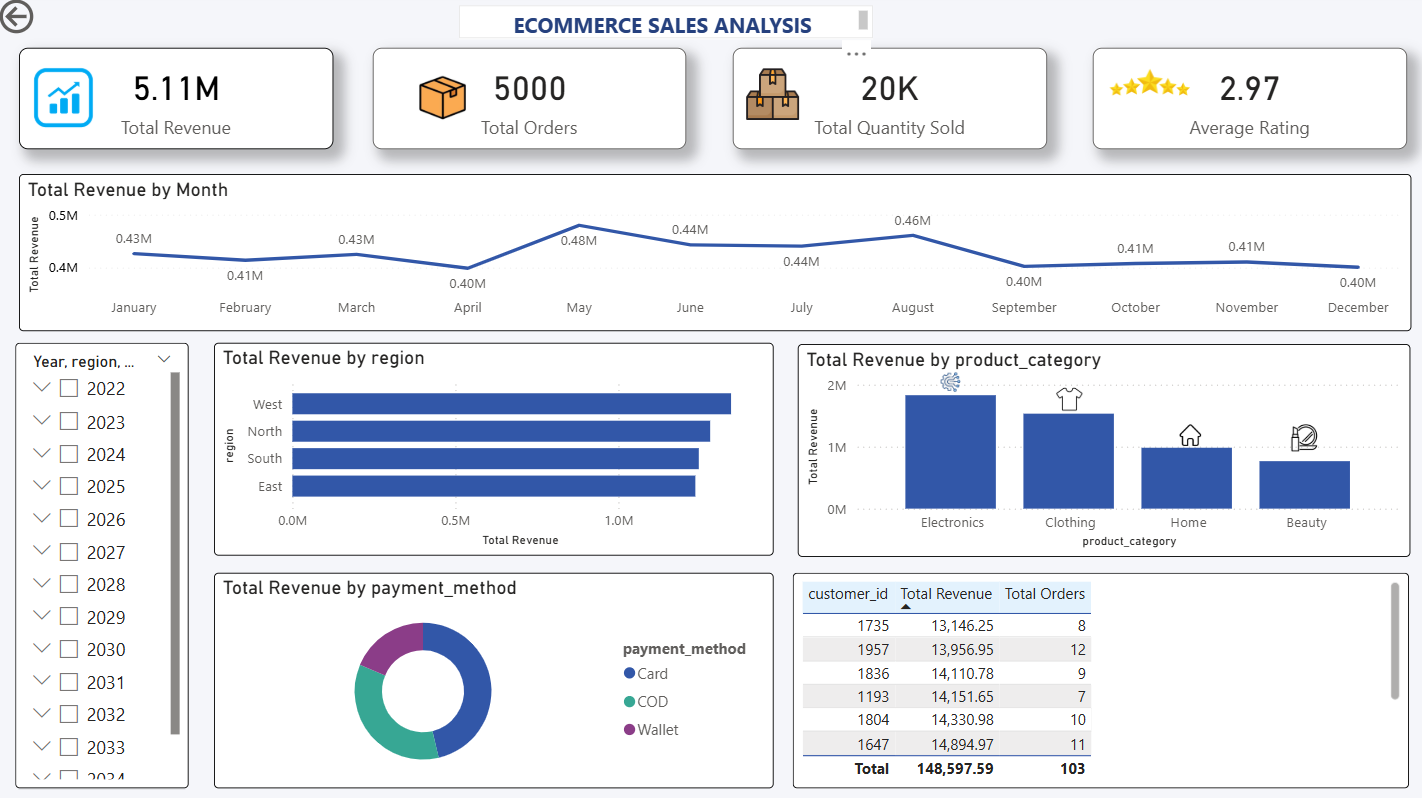

Layout of this report page (visuals, bound fields, positions):
{"tool":"powerbi","page":{"name":"Ecommerce Dashboard","canvas":[1280,720],"ordinal":0},"visuals":[{"type":"card","fields":{"Values":["clean_ecommerce.Total Revenue"]},"box":[21.7,48.3,279.9,90.5],"z":0},{"type":"card","fields":{"Values":["clean_ecommerce.Total Quantity Sold"]},"box":[657.5,48.3,279.9,90.5],"z":1000},{"type":"card","fields":{"Values":["clean_ecommerce.Total Orders"]},"box":[337.8,48.3,279,90.5],"z":2000},{"type":"card","fields":{"Values":["clean_ecommerce.Average Rating"]},"box":[978.4,48.3,279.9,90.5],"z":3000},{"type":"lineChart","fields":{"Category":["clean_ecommerce.order_date.Variation.Date Hierarchy.Month"],"Y":["clean_ecommerce.Total Revenue"]},"box":[21.7,160.5,1240.2,139.9],"z":4000},{"type":"columnChart","fields":{"Category":["clean_ecommerce.product_category"],"Y":["clean_ecommerce.Total Revenue"]},"box":[715.4,311.3,545.3,189.4],"z":5000},{"type":"barChart","fields":{"Category":["clean_ecommerce.region"],"Y":["clean_ecommerce.Total Revenue"]},"box":[195.4,310.1,498.3,189.4],"z":6000},{"type":"donutChart","fields":{"Category":["clean_ecommerce.payment_method"],"Y":["clean_ecommerce.Total Revenue"]},"box":[195.4,515.2,498.3,191.8],"z":7000},{"type":"tableEx","fields":{"Values":["clean_ecommerce.customer_id","clean_ecommerce.Total Revenue","clean_ecommerce.Total Orders"]},"box":[711.8,515.2,548.9,191.8],"z":8000},{"type":"actionButton","box":[0,0,100,40],"z":9000},{"type":"slicer","fields":{"Values":["clean_ecommerce.order_date.Variation.Date Hierarchy.Year","clean_ecommerce.region","clean_ecommerce.product_category","clean_ecommerce.payment_method"]},"box":[19.3,310.1,154.4,396.9],"z":10000},{"type":"image","box":[21.7,56.7,78.4,71.2],"z":11000},{"type":"image","box":[354.7,56.7,89.3,71.2],"z":12000},{"type":"image","box":[657.5,56.7,71.2,61.5],"z":13000},{"type":"image","box":[973.6,35,111,88.1],"z":14000},{"type":"image","box":[937.4,342.6,41,36.2],"z":15000},{"type":"image","box":[1029.1,378.8,73.6,29],"z":16000},{"type":"image","box":[797.5,328.2,109.8,35],"z":17000},{"type":"image","box":[1142.5,378.8,49.5,33.8],"z":18000},{"type":"textbox","box":[413.8,9.7,369.2,30.2],"z":19000}]}

Visuals, with their boxes in screenshot pixels (x1, y1, x2, y2), scaled from the page's 1280x720 canvas onto the 1422x798 screenshot:
card - clean_ecommerce.Total Revenue: x1=24, y1=54, x2=335, y2=154
card - clean_ecommerce.Total Quantity Sold: x1=730, y1=54, x2=1041, y2=154
card - clean_ecommerce.Total Orders: x1=375, y1=54, x2=685, y2=154
card - clean_ecommerce.Average Rating: x1=1087, y1=54, x2=1398, y2=154
lineChart - clean_ecommerce.order_date.Variation.Date Hierarchy.Month x clean_ecommerce.Total Revenue: x1=24, y1=178, x2=1402, y2=333
columnChart - clean_ecommerce.product_category x clean_ecommerce.Total Revenue: x1=795, y1=345, x2=1401, y2=555
barChart - clean_ecommerce.region x clean_ecommerce.Total Revenue: x1=217, y1=344, x2=771, y2=554
donutChart - clean_ecommerce.payment_method x clean_ecommerce.Total Revenue: x1=217, y1=571, x2=771, y2=784
tableEx - clean_ecommerce.customer_id x clean_ecommerce.Total Revenue: x1=791, y1=571, x2=1401, y2=784
actionButton: x1=0, y1=0, x2=111, y2=44
slicer - clean_ecommerce.order_date.Variation.Date Hierarchy.Year x clean_ecommerce.region: x1=21, y1=344, x2=193, y2=784
image: x1=24, y1=63, x2=111, y2=142
image: x1=394, y1=63, x2=493, y2=142
image: x1=730, y1=63, x2=810, y2=131
image: x1=1082, y1=39, x2=1205, y2=136
image: x1=1041, y1=380, x2=1087, y2=420
image: x1=1143, y1=420, x2=1225, y2=452
image: x1=886, y1=364, x2=1008, y2=403
image: x1=1269, y1=420, x2=1324, y2=457
textbox: x1=460, y1=11, x2=870, y2=44
